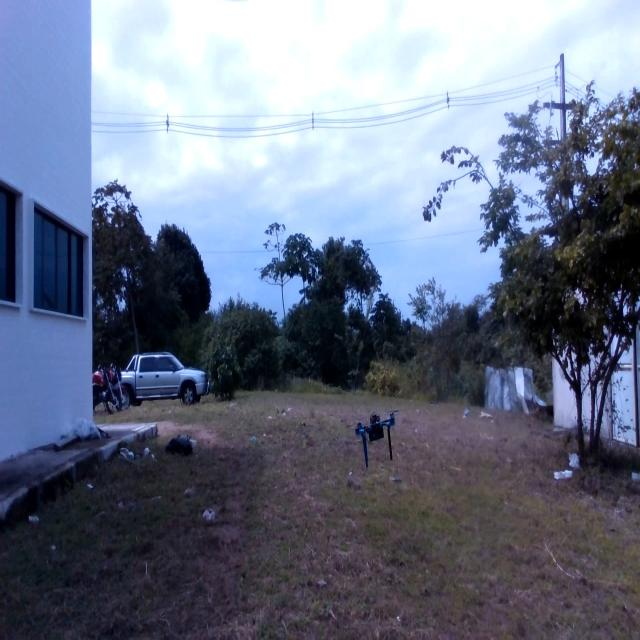-uav-: (351, 406, 406, 481)
